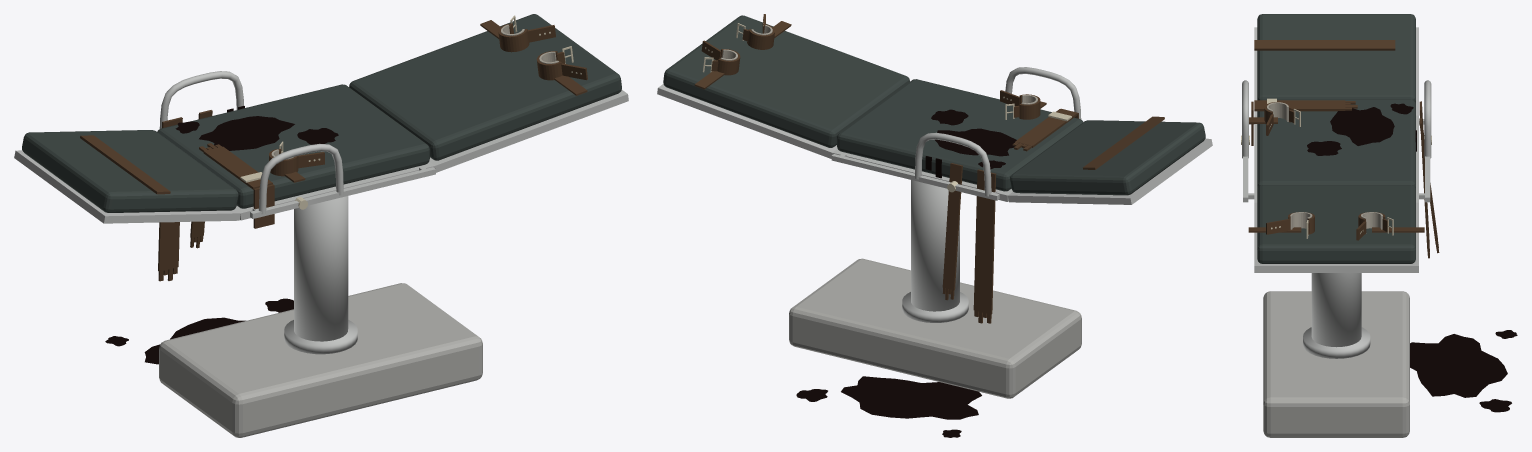
The model's file is operating_table.glb.
3 views of the same model, side by side, from view 1: azimuth 30°, elevation 25°; view 2: azimuth 150°, elevation 25°; view 3: azimuth 270°, elevation 25° (orthographic). The views are drawn at different scales.
Parts seen in each view (by area): view 1: TablePads, TablePlinth, TableSteelRound, TableRestraints, TableSteelFrame, TableStain; view 2: TablePads, TablePlinth, TableRestraints, TableSteelRound, TableStain, TableSteelFrame; view 3: TablePads, TablePlinth, TableStain, TableSteelRound, TableRestraints, TableSteelFrame, TableCuffLining, TableBuckles.
Boxes of the visible parts, <box> form: TablePads: <box>22,14,621,212</box>; TablePlinth: <box>159,283,482,437</box>; TableSteelRound: <box>159,71,357,354</box>; TableRestraints: <box>80,20,587,281</box>; TableSteelFrame: <box>14,90,628,223</box>; TableStain: <box>105,106,338,364</box>; TablePads: <box>663,15,1205,195</box>; TablePlinth: <box>789,258,1081,398</box>; TableRestraints: <box>694,14,1164,323</box>; TableSteelRound: <box>902,67,1081,322</box>; TableStain: <box>796,109,1016,437</box>; TableSteelFrame: <box>657,84,1212,204</box>; TablePads: <box>1257,14,1415,263</box>; TablePlinth: <box>1263,291,1409,437</box>; TableStain: <box>1307,103,1517,412</box>; TableSteelRound: <box>1242,80,1431,358</box>; TableRestraints: <box>1248,40,1439,258</box>; TableSteelFrame: <box>1243,27,1430,272</box>; TableCuffLining: <box>1267,102,1382,233</box>; TableBuckles: <box>1241,98,1431,238</box>.
Bounding box in the file's own units: 1.89 × 1 × 0.9416.
